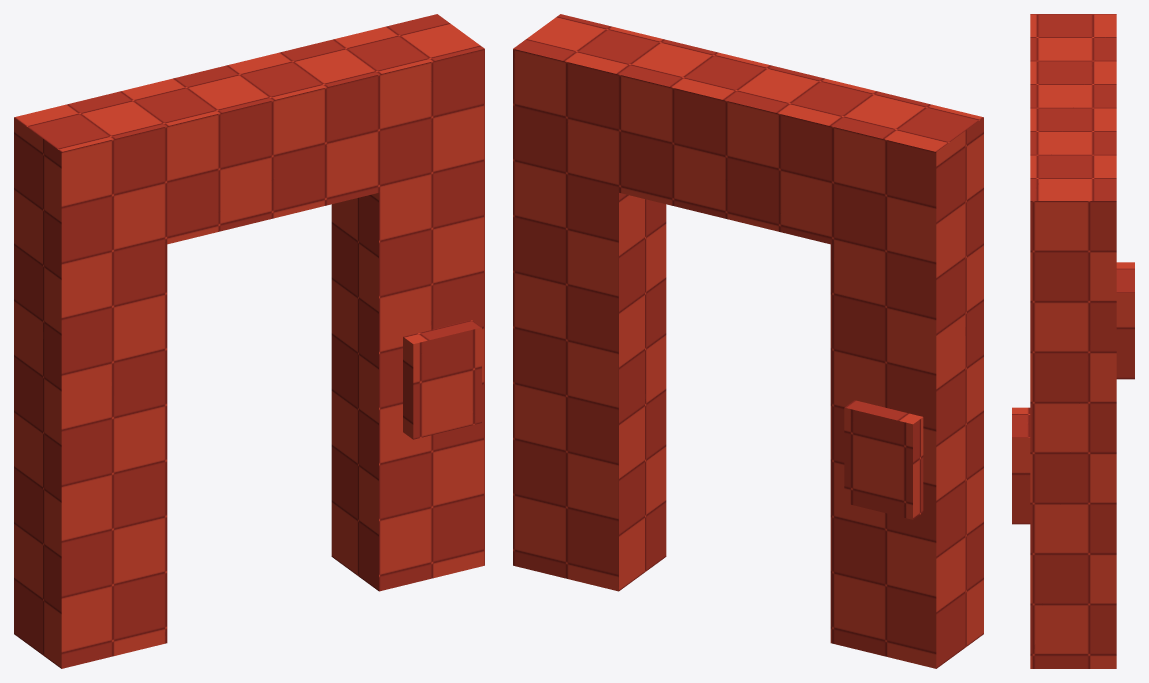
The model's file is DoorFramePH.fbx.
3 views of the same model, side by side, from view 1: azimuth 30°, elevation 25°; view 2: azimuth 150°, elevation 25°; view 3: azimuth 270°, elevation 25° (orthographic). The views are drawn at different scales.
Visible parts, largest first — view 1: Door; view 2: Door; view 3: Door.
Part boxes in pixels (box(x1,y1,x2,y2)): Door: box(14, 14, 484, 668); Door: box(513, 14, 983, 668); Door: box(1012, 14, 1134, 668).
Size of the model in its own units: 300 by 83.26 by 350.
